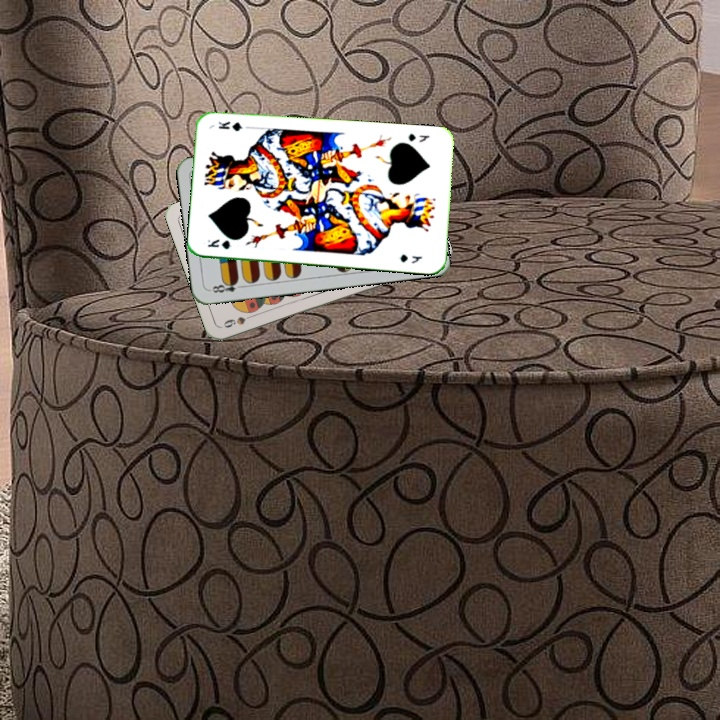E8: (206, 276, 247, 295)
GK: (204, 235, 233, 251), (404, 129, 432, 145)
S9: (219, 310, 259, 330)
